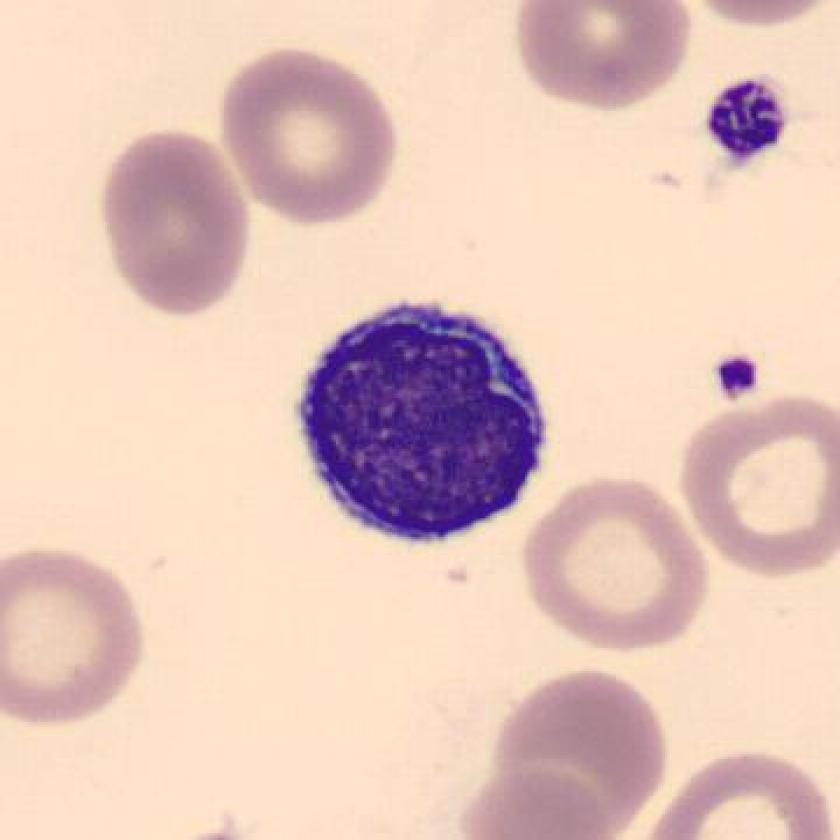lymphocyte: (277, 281, 571, 563)
